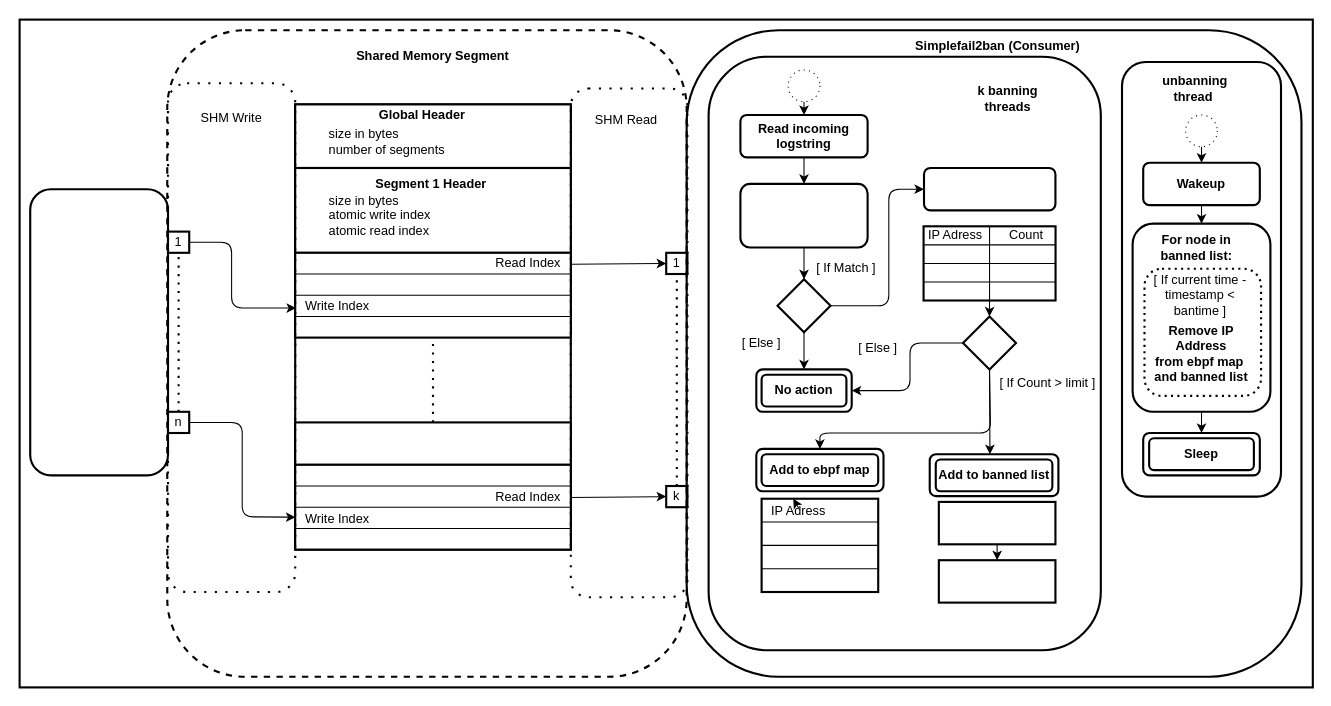
The diagram is 1331 pixels wide and 706 high, and some of its shapes have lost their labels. The shapes that lost their labels are listed below. From the top down, each one's centre as x and y in pixels, then its label:
At point (989, 188): "Hashtabe lookup".
At point (803, 215): "Parse logstring (Hyperscan)".
At point (99, 332): "Target Application (Producer)".
At point (432, 443): "Segment n Header".
At point (996, 522): "IP Adress Timestap".
